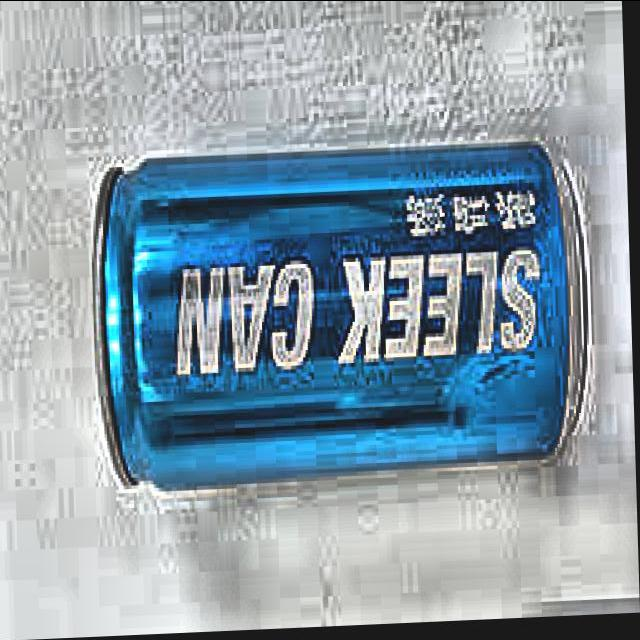Aluminum Can: (83, 128, 604, 501)
